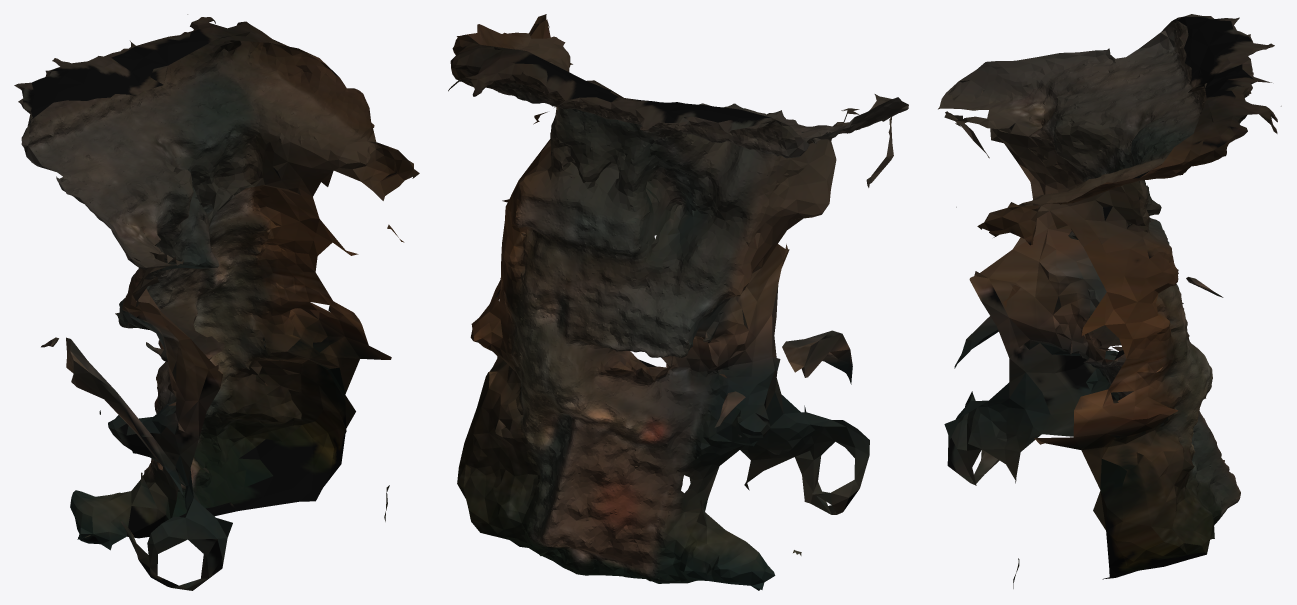
The model's file is texturedMesh.obj.
The picture shows the model from 3 angles, left to right: view 1: azimuth 30°, elevation 25°; view 2: azimuth 150°, elevation 25°; view 3: azimuth 270°, elevation 25°; orthographic projection. The views are drawn at different scales.
Visible parts, largest first — view 1: TexturedMesh; view 2: TexturedMesh; view 3: TexturedMesh.
Boxes of the visible parts, x1,y1,x2,y2 form: TexturedMesh: (14, 14, 419, 590); TexturedMesh: (448, 14, 908, 590); TexturedMesh: (938, 14, 1281, 588).
Size of the model in its own units: 1.34 by 1.88 by 1.25.
Materials: 1 (1 with a texture image).
